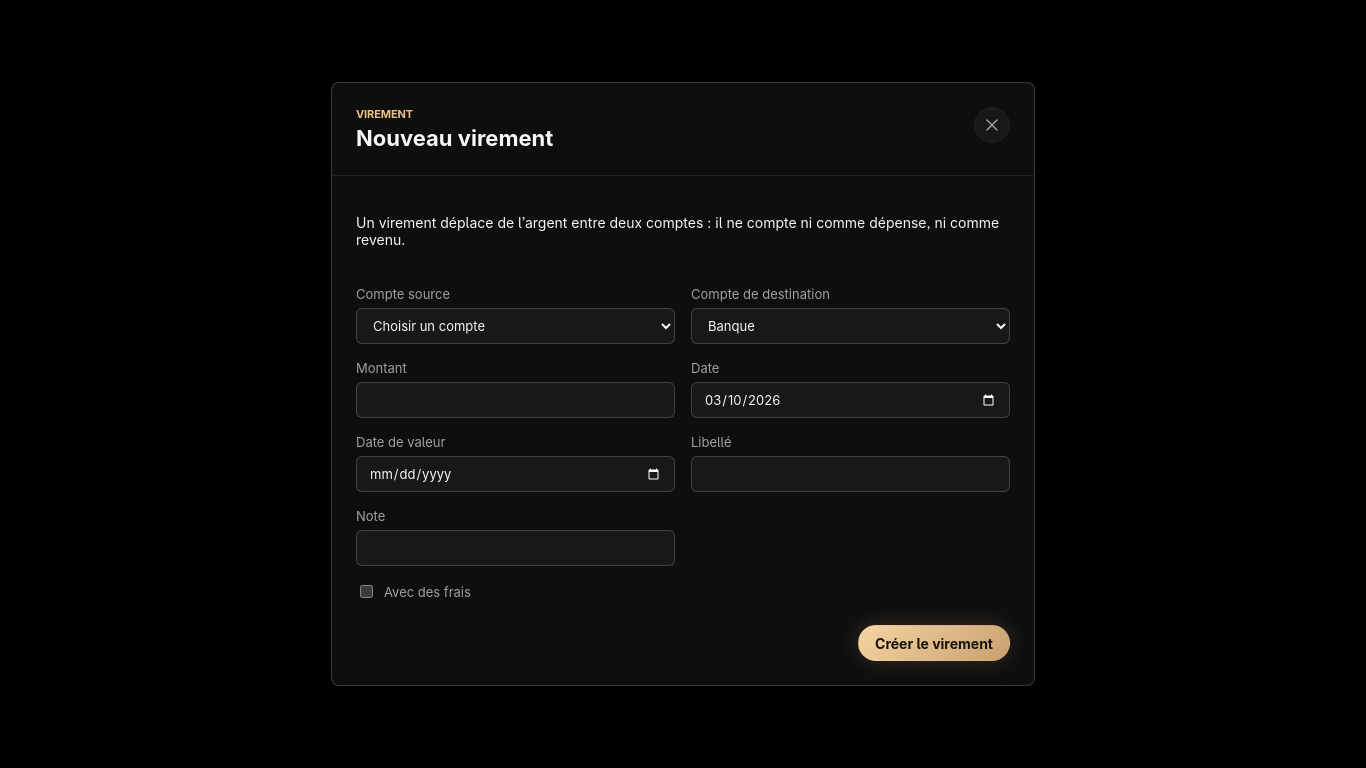
Scenario: TransferEditor into a portfolio › announces the automatic withdrawal when the portfolio is the source
Select "Titres" in the dropdown labelled "Compte source". click: [516, 326]
box: [356,308,675,344]
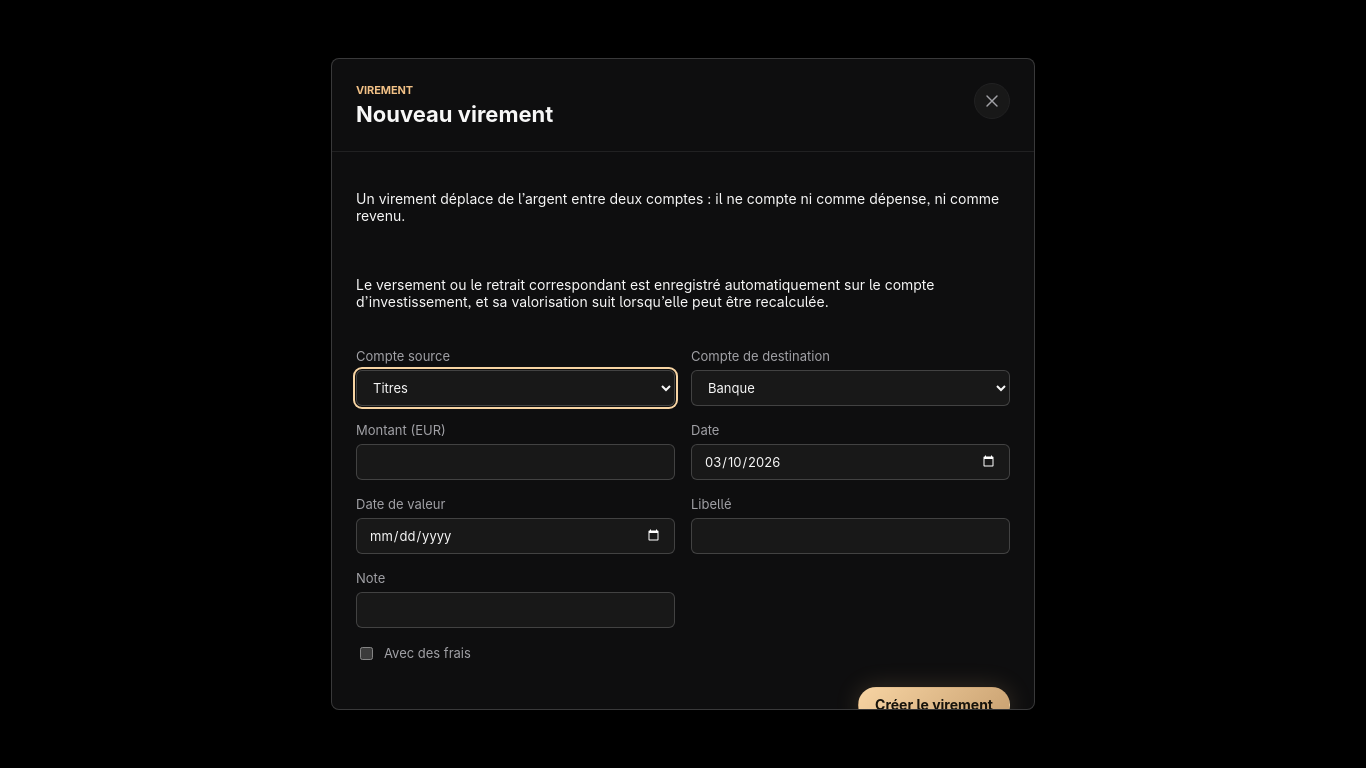
expect the text "enregistré automatiquement sur le compte d’investissement" is shown: met, box [356,276,934,310]
